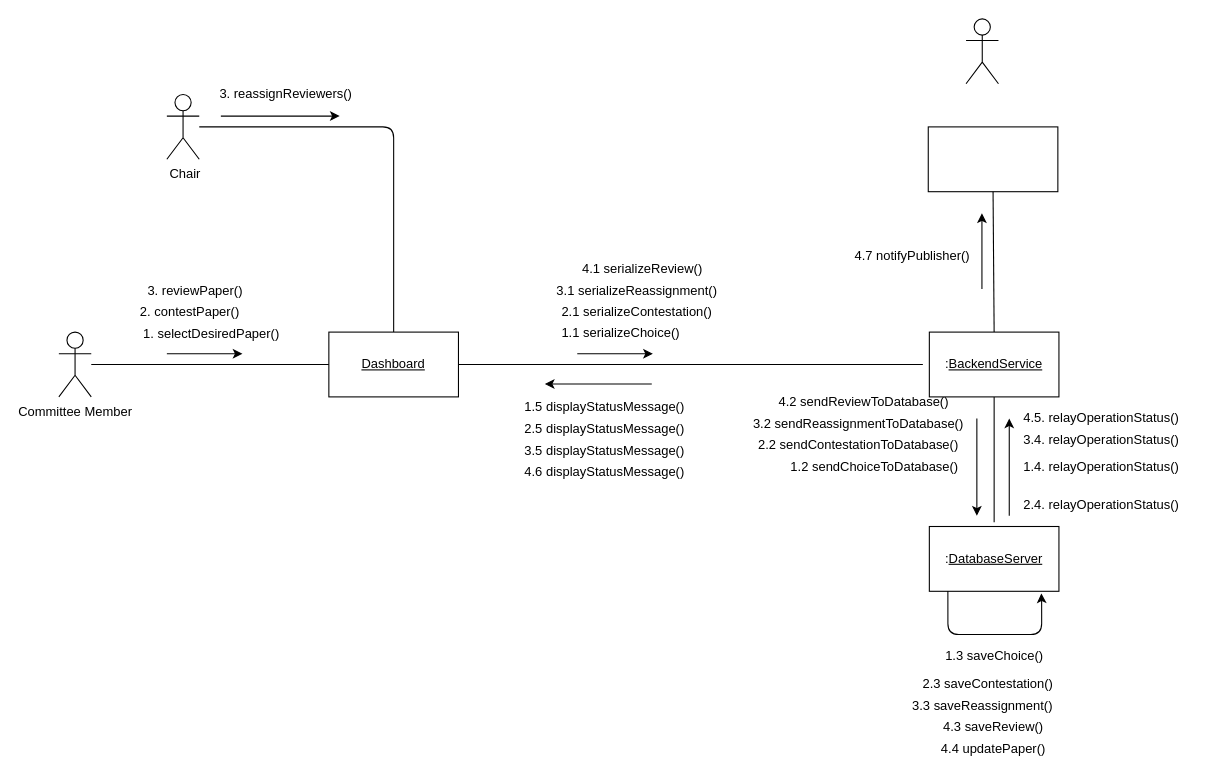
This 1206x779 diagram has some shape labels left out. Here are the shapes that lost their labels. From the top down, the box of each, then its label:
(965, 18, 998, 84): Publisher
(927, 126, 1058, 192): :PublisherEmailServer
